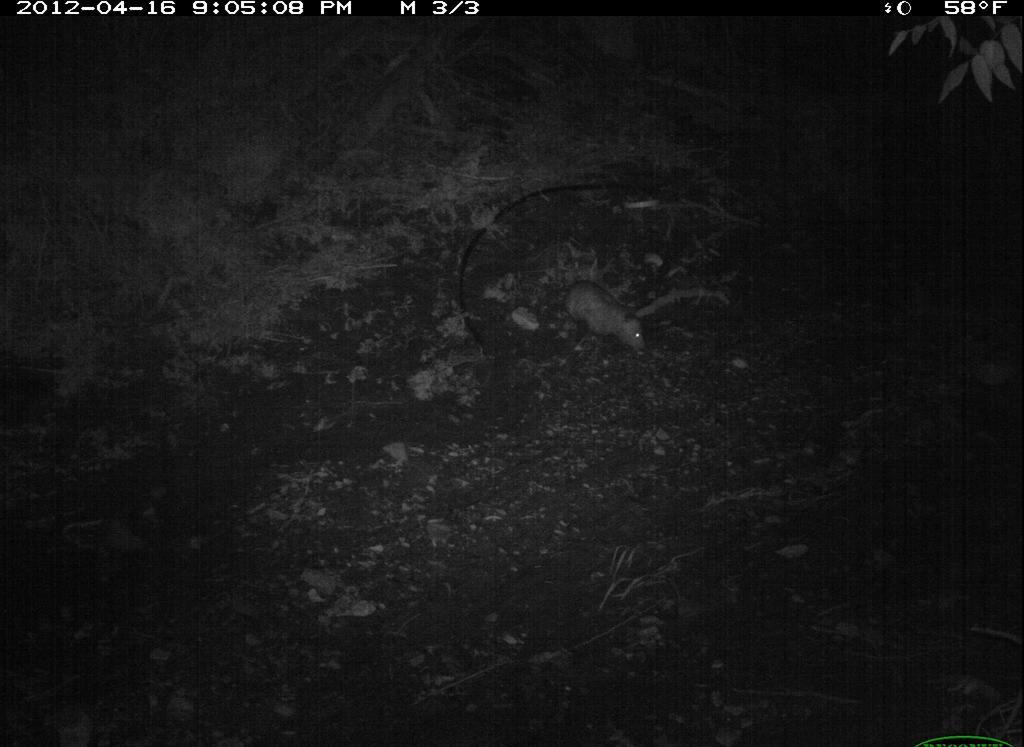opossum: (559, 268, 658, 363)
